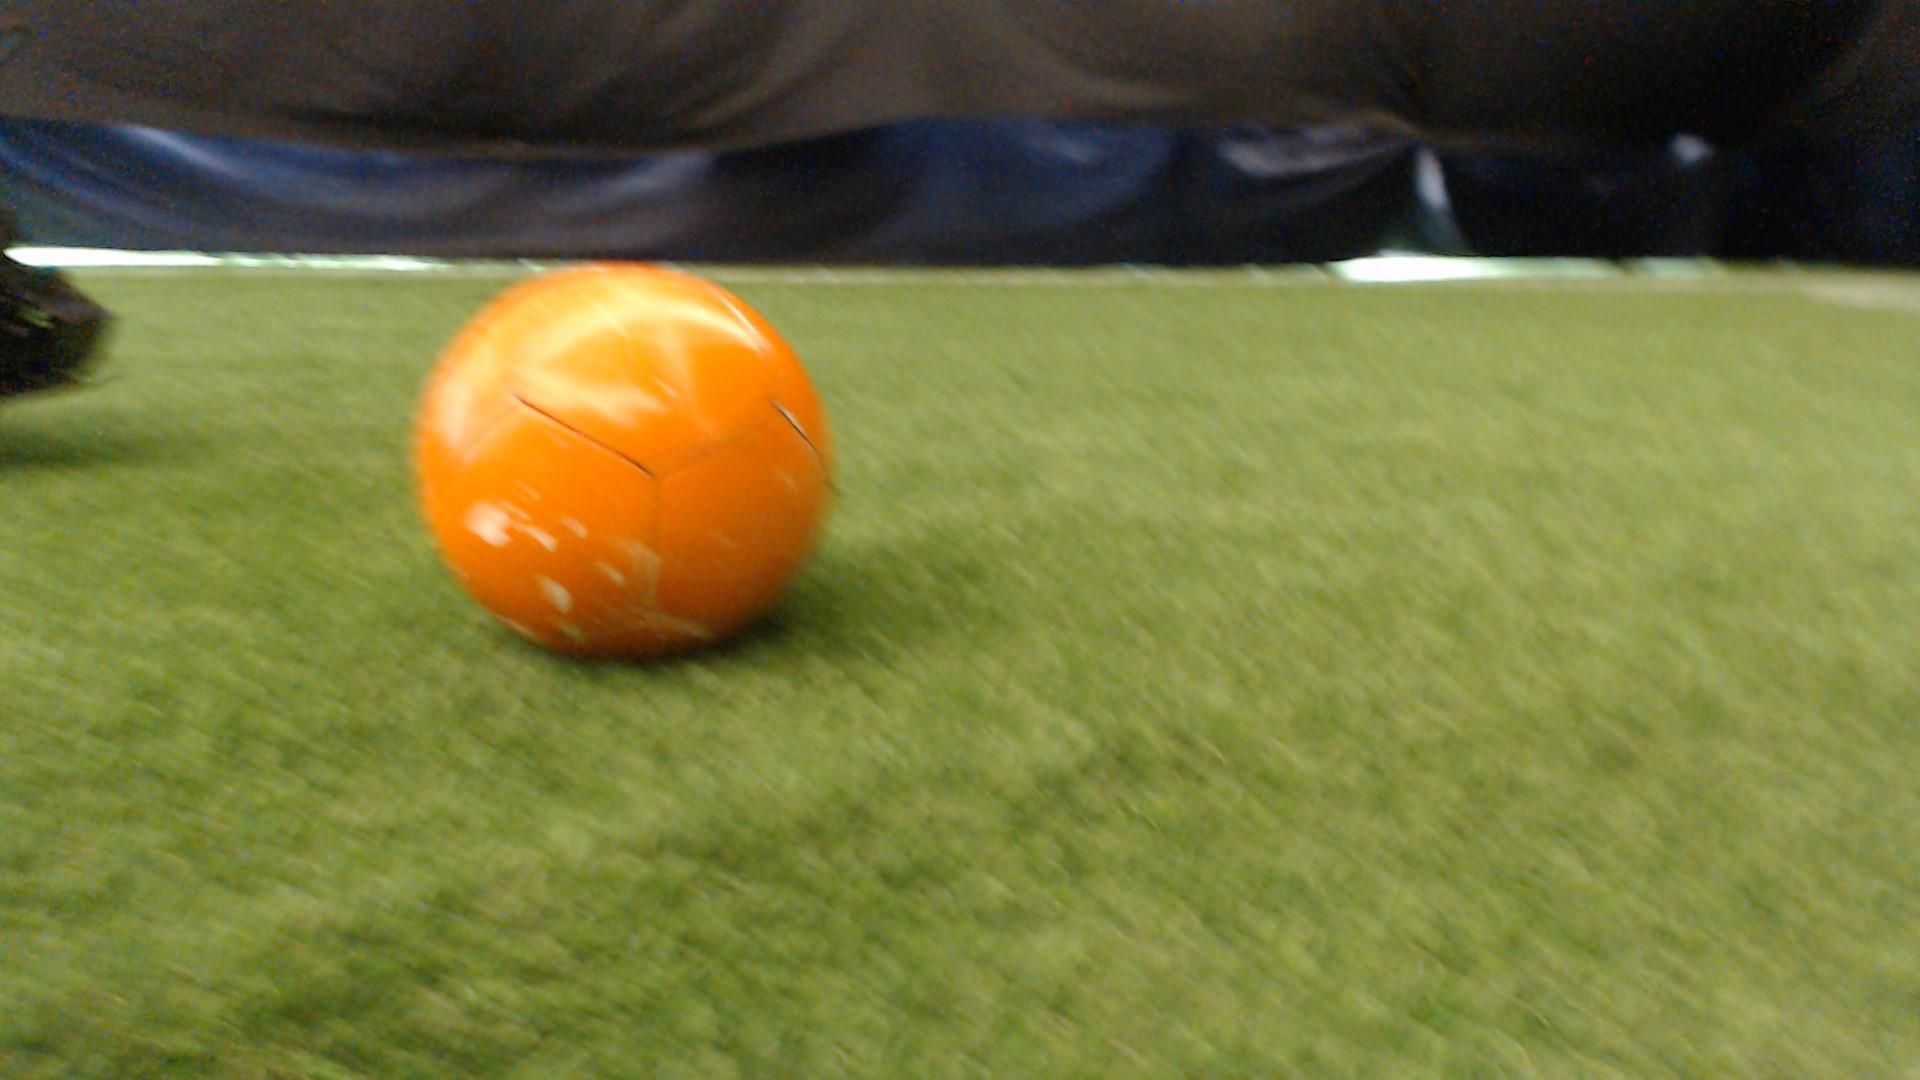bola: (392, 239, 884, 684)
